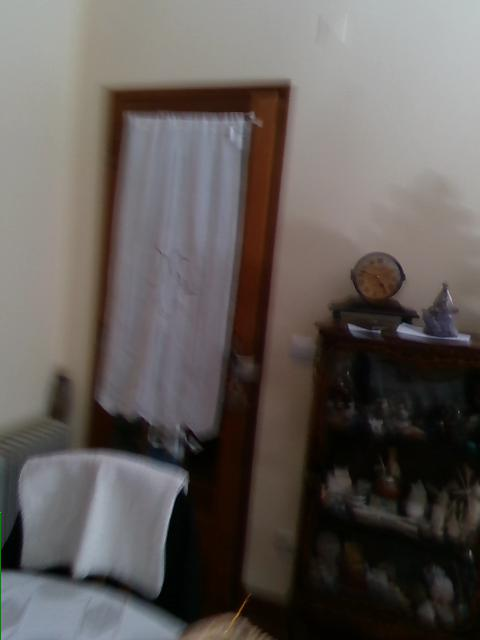door: (85, 84, 288, 597)
